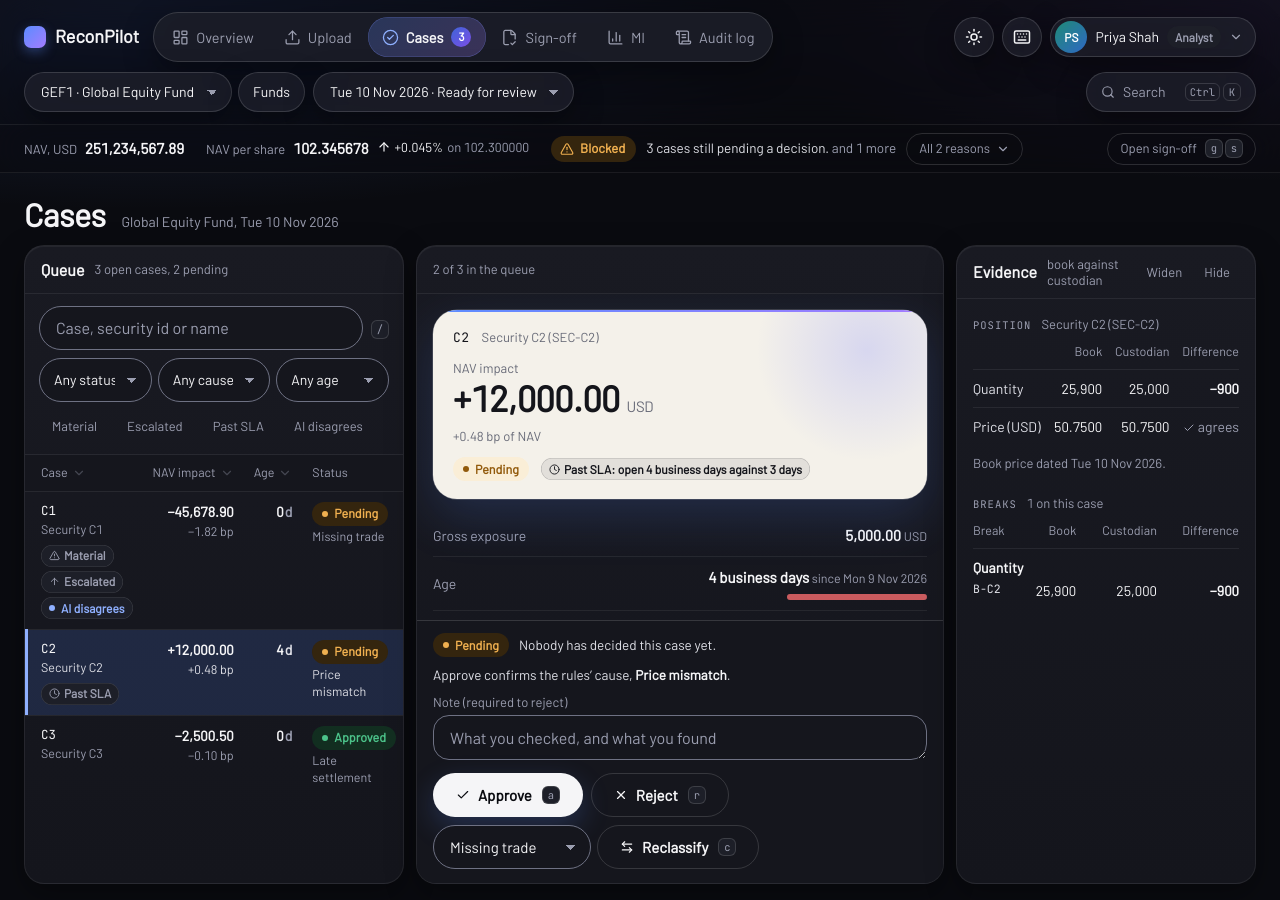
case workbench › will not reject without a note, and rejects with one
Click the button "Reject r" at (660, 795), box [591,773,729,817]
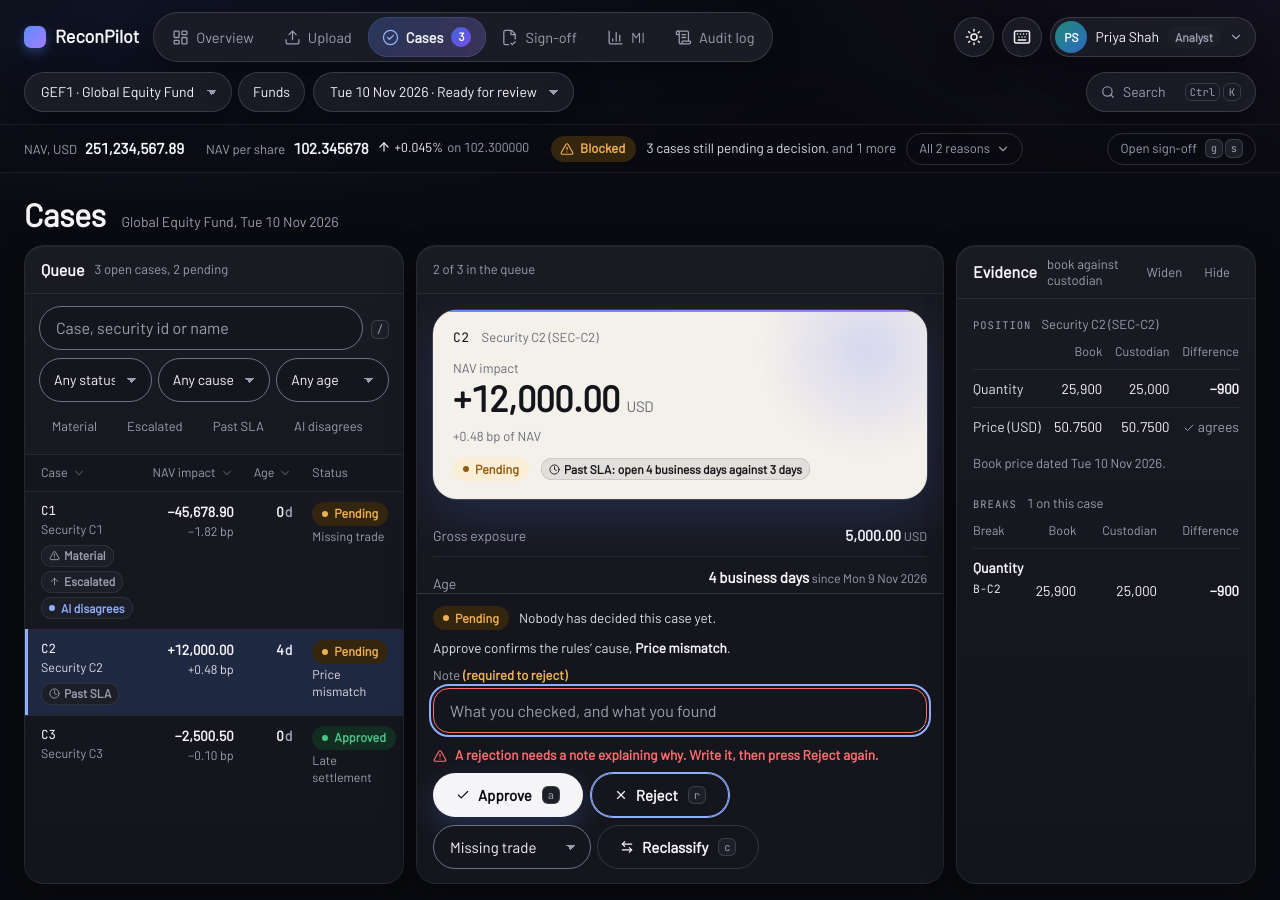
expect the message shows "A rejection needs a note explaining why.": met, box [455,746,878,763]
Type "Price is the vendor's stale close." into the text box labelled "Note (required to reject)" at (680, 710), box [433,688,927,733]
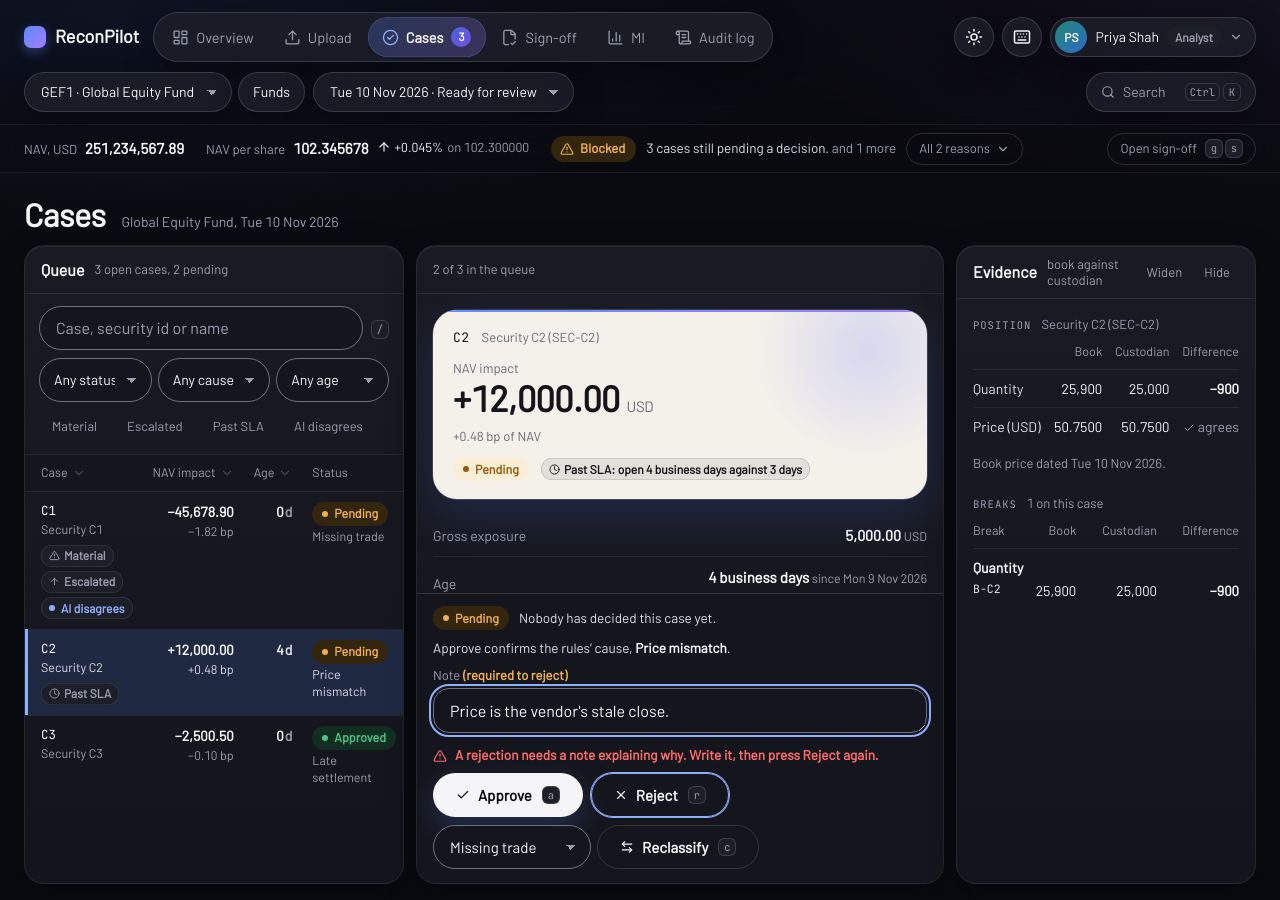
Click the button "Reject r" at (660, 795), box [591,773,729,817]
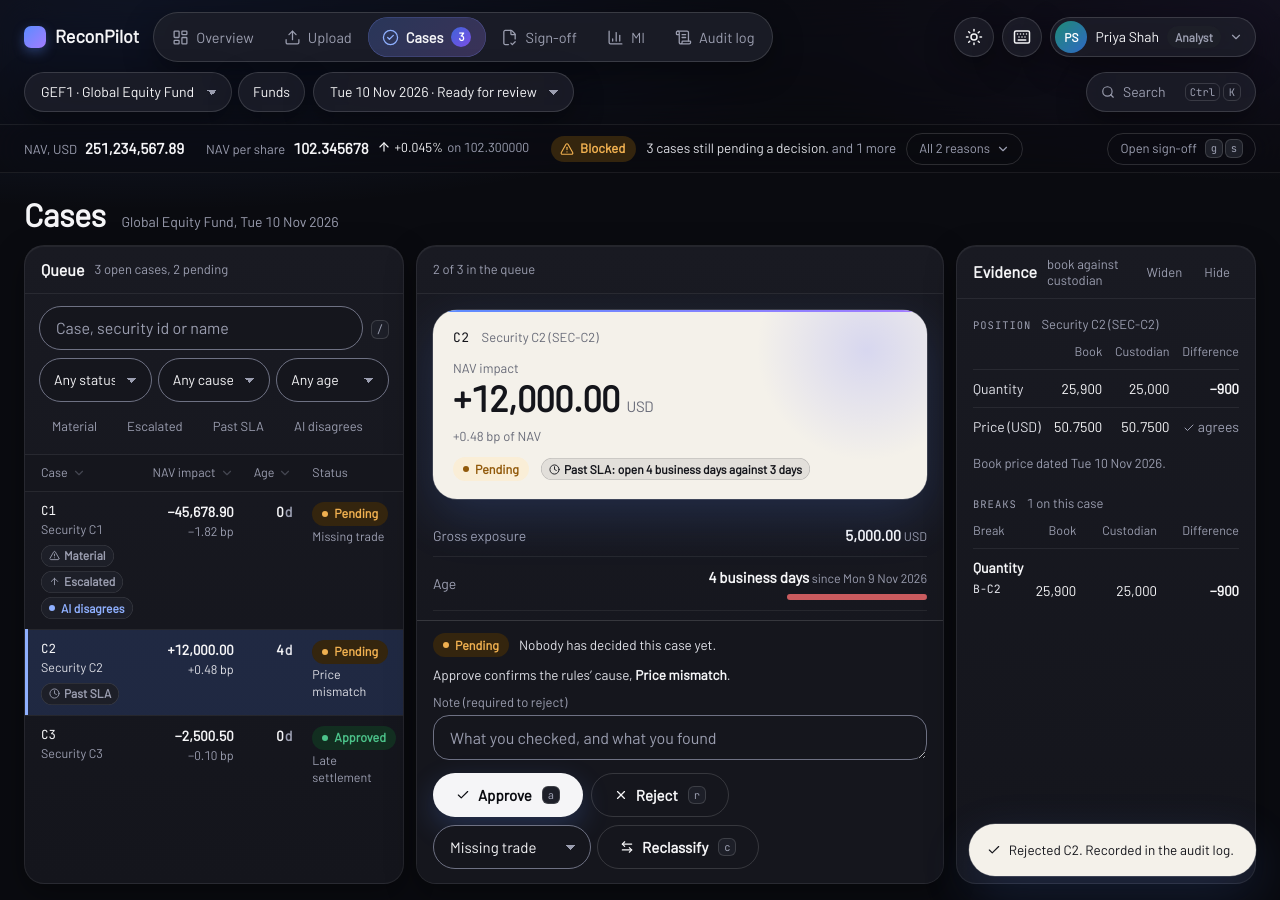
expect the text "Rejected C2. Recorded in the audit log." is shown: met, box [969,824,1256,876]
